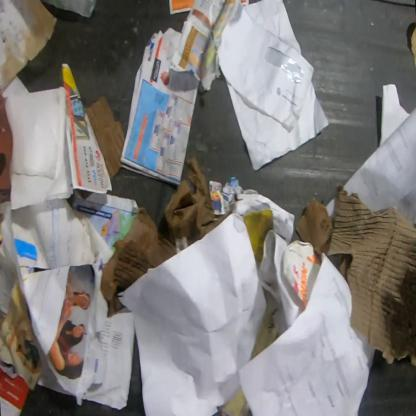cardboard: (294, 181, 416, 367), (101, 154, 232, 318), (83, 93, 125, 182), (281, 239, 322, 311), (0, 90, 13, 206), (409, 25, 416, 68)
soft_plastic: (40, 0, 97, 19)
